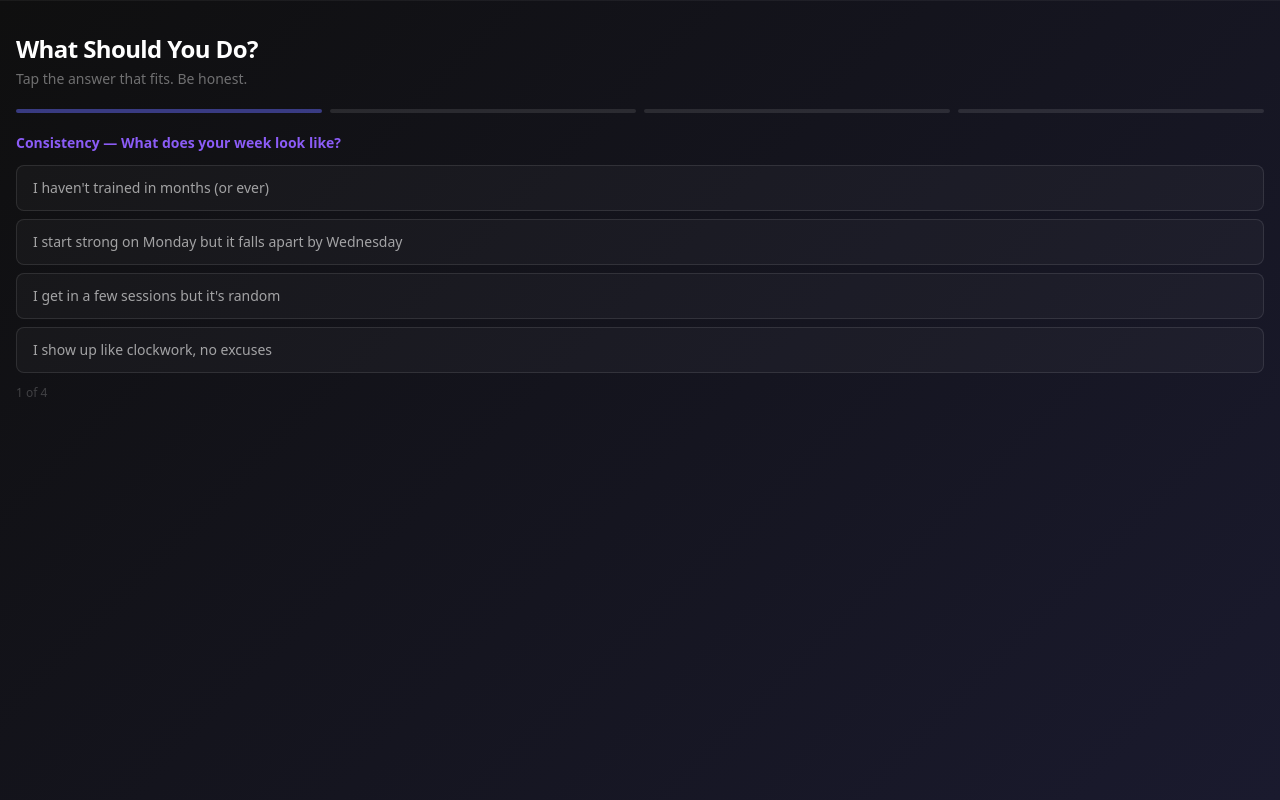
Test: Assessment › shows result immediately when user scores weak on first question
This screenshot has width=1280, height=800.
Click the button "I haven't trained in months (or ever)" at point(151, 188), box [16,165,1264,211]
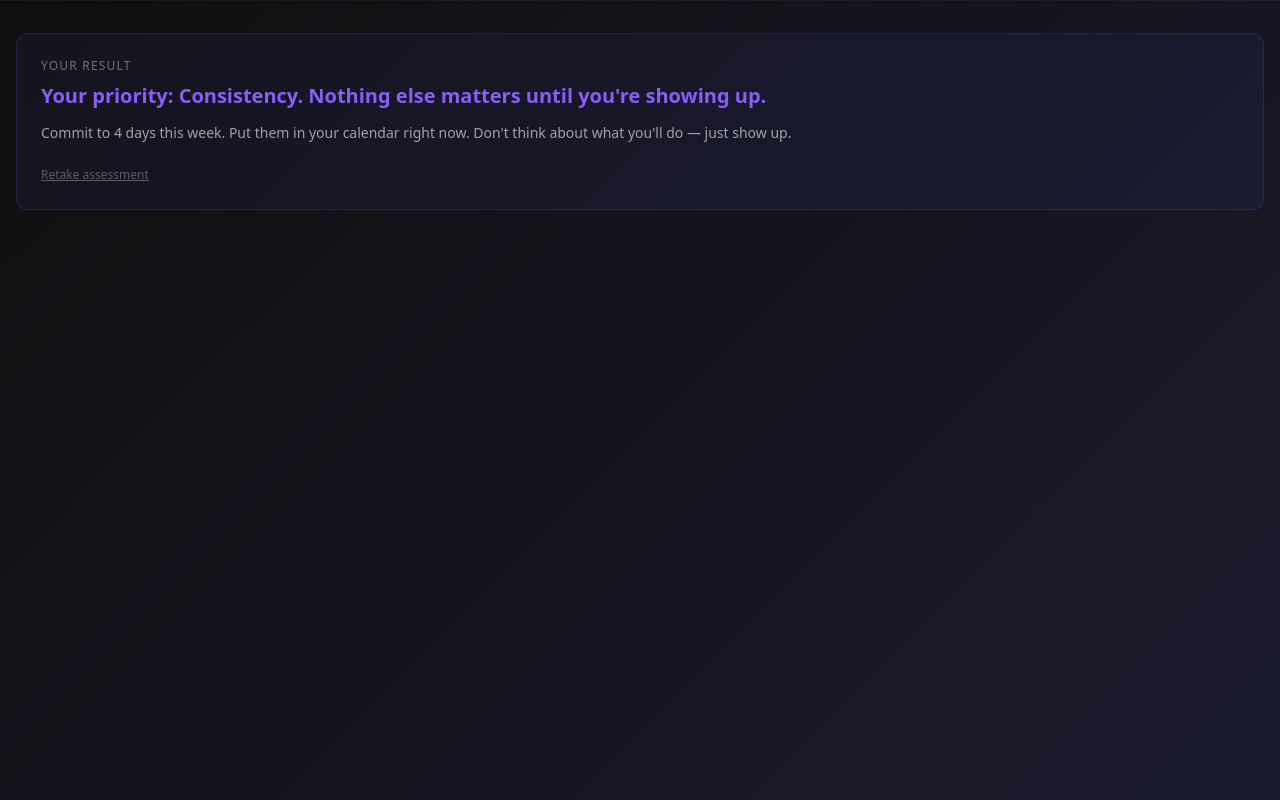
Expected: the heading "Your priority: Consistency" is shown, [41,82,766,109]
